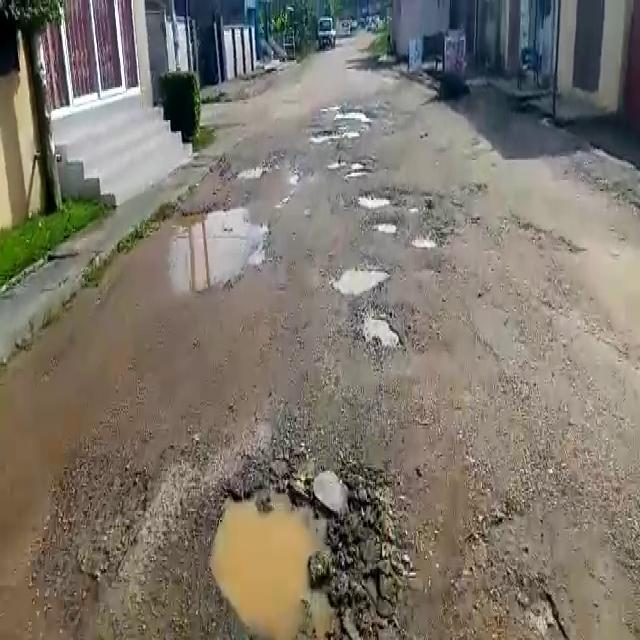pothole: (201, 480, 382, 640), (133, 210, 273, 294), (357, 305, 405, 352), (332, 262, 390, 297), (329, 159, 374, 181), (309, 128, 361, 144), (235, 161, 270, 184), (356, 188, 397, 207), (410, 232, 440, 252), (372, 220, 399, 235)
